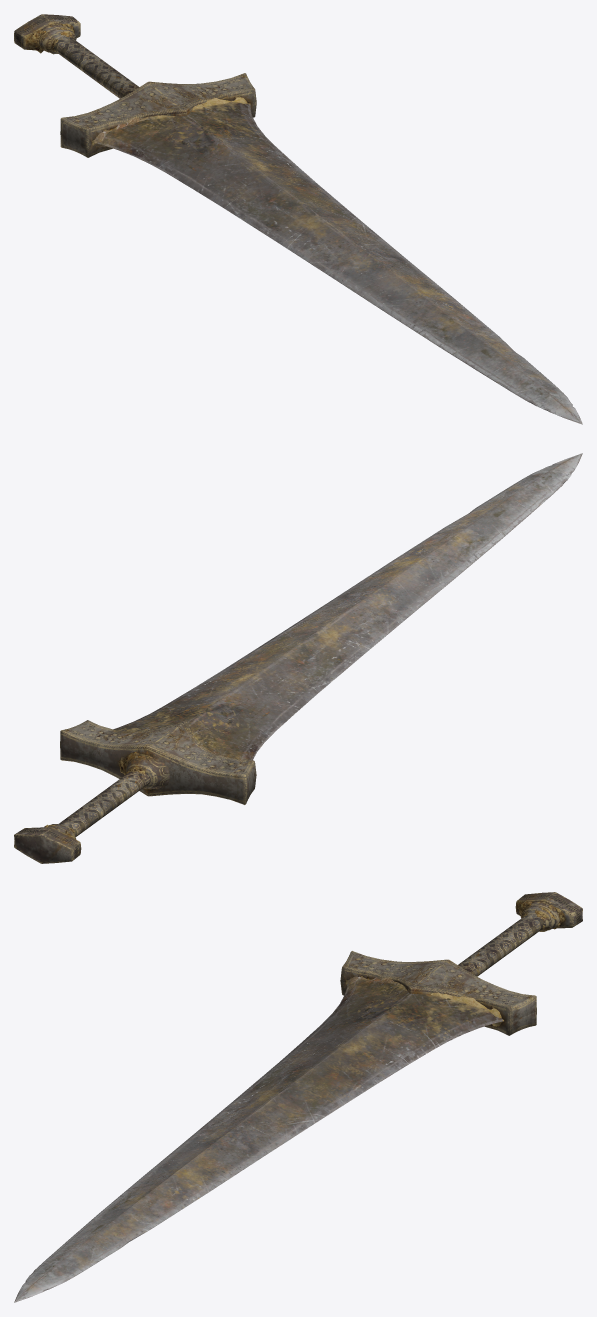
3 views of the same model, one above another, from view 1: azimuth 30°, elevation 25°; view 2: azimuth 150°, elevation 25°; view 3: azimuth 330°, elevation 25° (orthographic).
Parts seen in each view (by area): view 1: WP_A_0608; view 2: WP_A_0608; view 3: WP_A_0608.
Part boxes in pixels (box(x1,y1,x2,y2)): WP_A_0608: box(14, 14, 582, 424); WP_A_0608: box(14, 453, 582, 863); WP_A_0608: box(14, 892, 582, 1302).
Size of the model in its own units: 33.29 by 8.57 by 167.
1 material, 1 textured.
